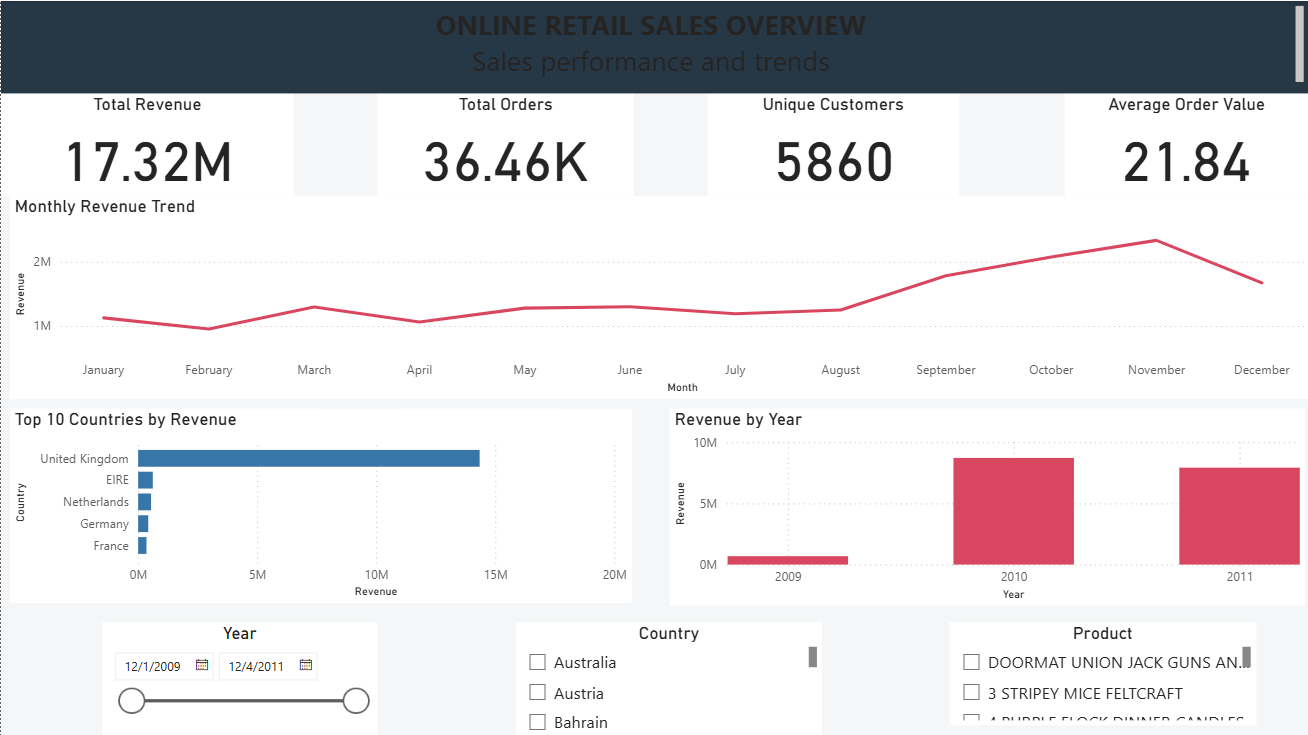

The dashboard page shown, as its layout file describes it:
{"tool":"powerbi","page":{"name":"Page 1","canvas":[1280,720],"ordinal":0},"visuals":[{"type":"lineChart","title":"Monthly Revenue Trend","fields":{"Category":["online_retail_clean.InvoiceDate.Variation.Date Hierarchy.Month"],"Y":["Sum(online_retail_clean.Revenue)"]},"box":[8.2,190.3,1271.3,198.6],"z":0},{"type":"clusteredBarChart","title":"Top 10 Countries by Revenue","fields":{"Category":["online_retail_clean.Country"],"Y":["Sum(online_retail_clean.Revenue)"]},"box":[8.2,398.3,608.6,190.3],"z":1000},{"type":"columnChart","title":"Revenue by Year","fields":{"Y":["Sum(online_retail_clean.Revenue)"],"Category":["online_retail_clean.InvoiceDate.Variation.Date Hierarchy.Year"]},"box":[654.4,398.3,621.5,192.7],"z":2000},{"type":"card","title":"Total Revenue","fields":{"Values":["Sum(online_retail_clean.Revenue)"]},"box":[0,90.5,286.7,99.9],"z":3000},{"type":"card","title":"Total Orders","fields":{"Values":["Count(online_retail_clean.Invoice)"]},"box":[367.8,90.5,251.4,99.9],"z":4000},{"type":"card","title":"Unique Customers","fields":{"Values":["Count(online_retail_clean.Customer ID)"]},"box":[690.9,90.5,246.7,99.9],"z":5000},{"type":"card","title":"Average Order Value","fields":{"Values":["Avg(online_retail_clean.Revenue)"]},"box":[1041,90.5,238.5,99.9],"z":6000},{"type":"textbox","box":[0,0,1279.5,90.5],"z":7000},{"type":"slicer","title":"Country","fields":{"Values":["online_retail_clean.Country"]},"box":[503.8,607.7,299.6,112.5],"z":8000},{"type":"slicer","title":"Year","fields":{"Values":["online_retail_clean.InvoiceDate"]},"box":[98.7,607.4,269.1,112.8],"z":9000},{"type":"slicer","title":"Product","fields":{"Values":["online_retail_clean.Description"]},"box":[928.2,607.4,299.6,101],"z":10000}]}

Visuals, with their boxes in screenshot pixels (x1, y1, x2, y2), scaled from the page's 1280x720 canvas onto the 1308x735 screenshot:
"Monthly Revenue Trend" lineChart: bbox=(8, 194, 1307, 397)
"Top 10 Countries by Revenue" clusteredBarChart: bbox=(8, 407, 630, 601)
"Revenue by Year" columnChart: bbox=(669, 407, 1304, 603)
"Total Revenue" card: bbox=(0, 92, 293, 194)
"Total Orders" card: bbox=(376, 92, 633, 194)
"Unique Customers" card: bbox=(706, 92, 958, 194)
"Average Order Value" card: bbox=(1064, 92, 1307, 194)
textbox: bbox=(0, 0, 1307, 92)
"Country" slicer: bbox=(515, 620, 821, 734)
"Year" slicer: bbox=(101, 620, 376, 734)
"Product" slicer: bbox=(949, 620, 1255, 723)
